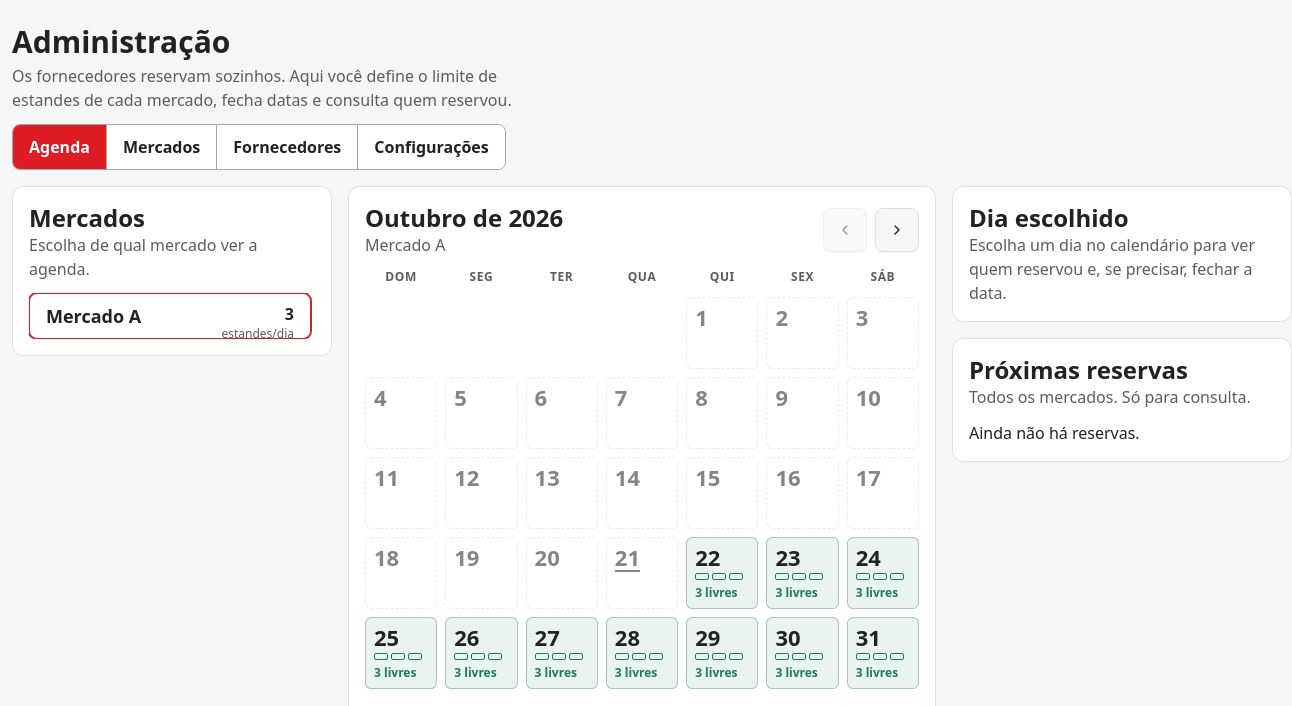
Test: aba Fornecedores › desativar pede confirmação e conta as reservas canceladas; dá para voltar atrás
Click the button "Fornecedores" at (287, 147), box x1=216 y1=125 x2=357 y2=169
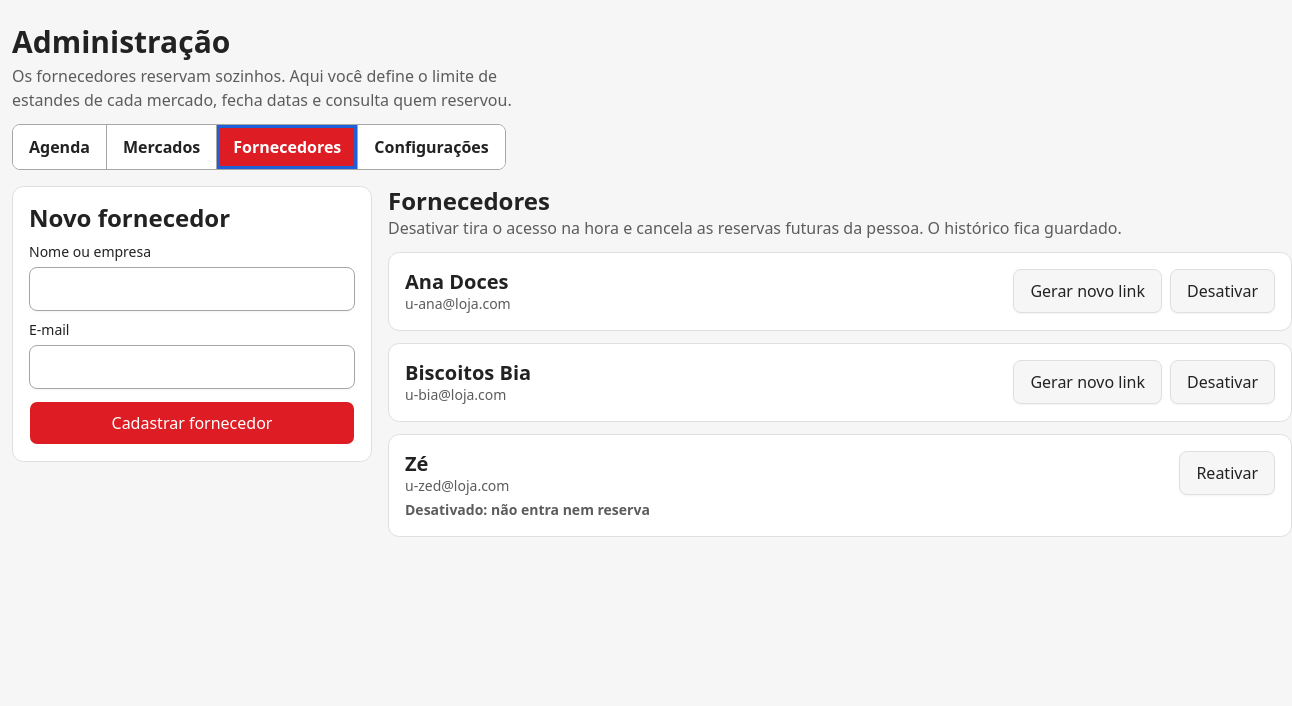
Click the button with aria-label "Desativar Biscoitos Bia" at (1222, 382), box x1=1170 y1=360 x2=1275 y2=404
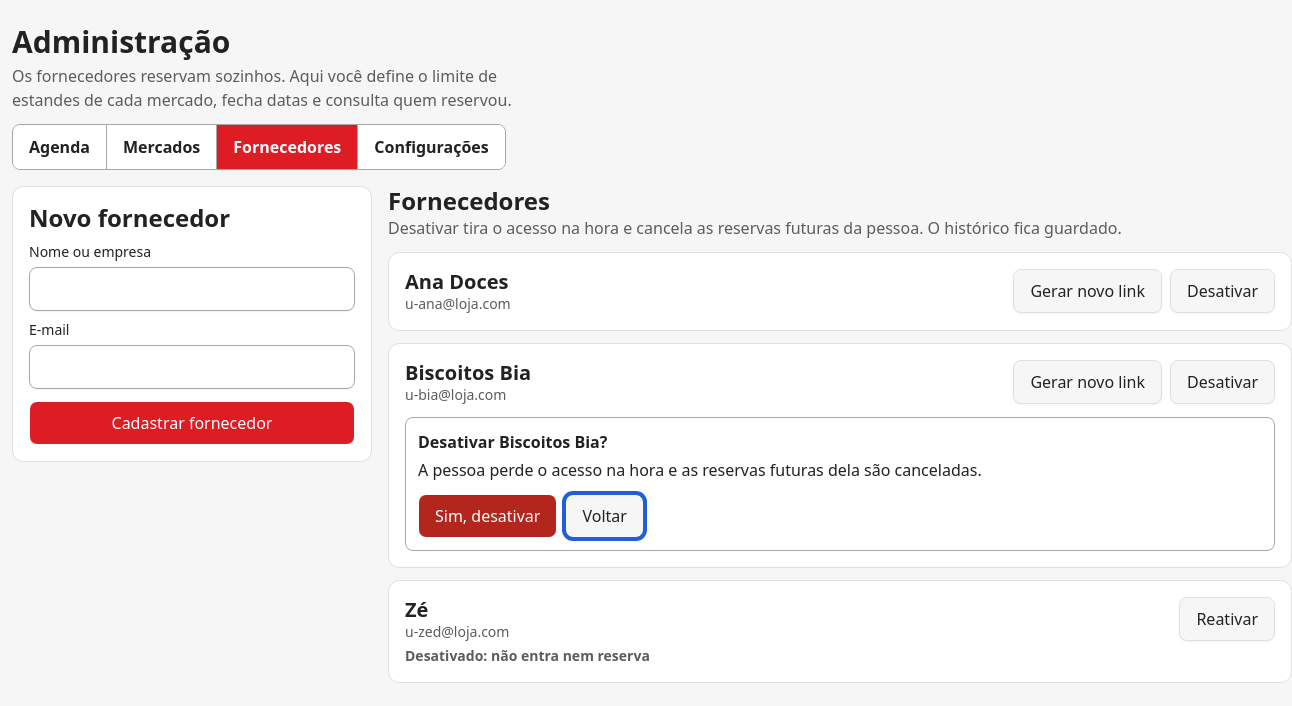
Now the element named "Confirmar a desativação de Biscoitos Bia" shows "reservas futuras dela são canceladas", box x1=418 y1=459 x2=982 y2=481
Click the button "Voltar" at (605, 516), box x1=566 y1=494 x2=644 y2=538
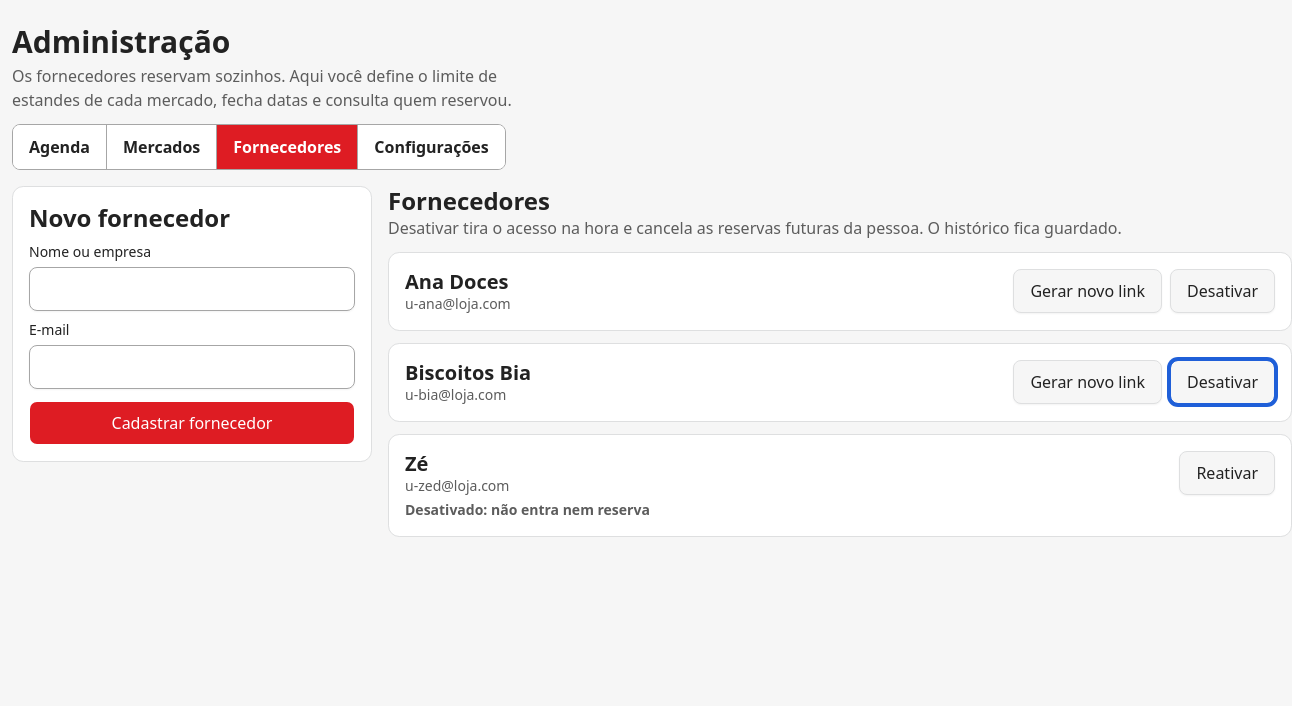
Click the button with aria-label "Desativar Biscoitos Bia" at (1222, 382), box x1=1170 y1=360 x2=1275 y2=404
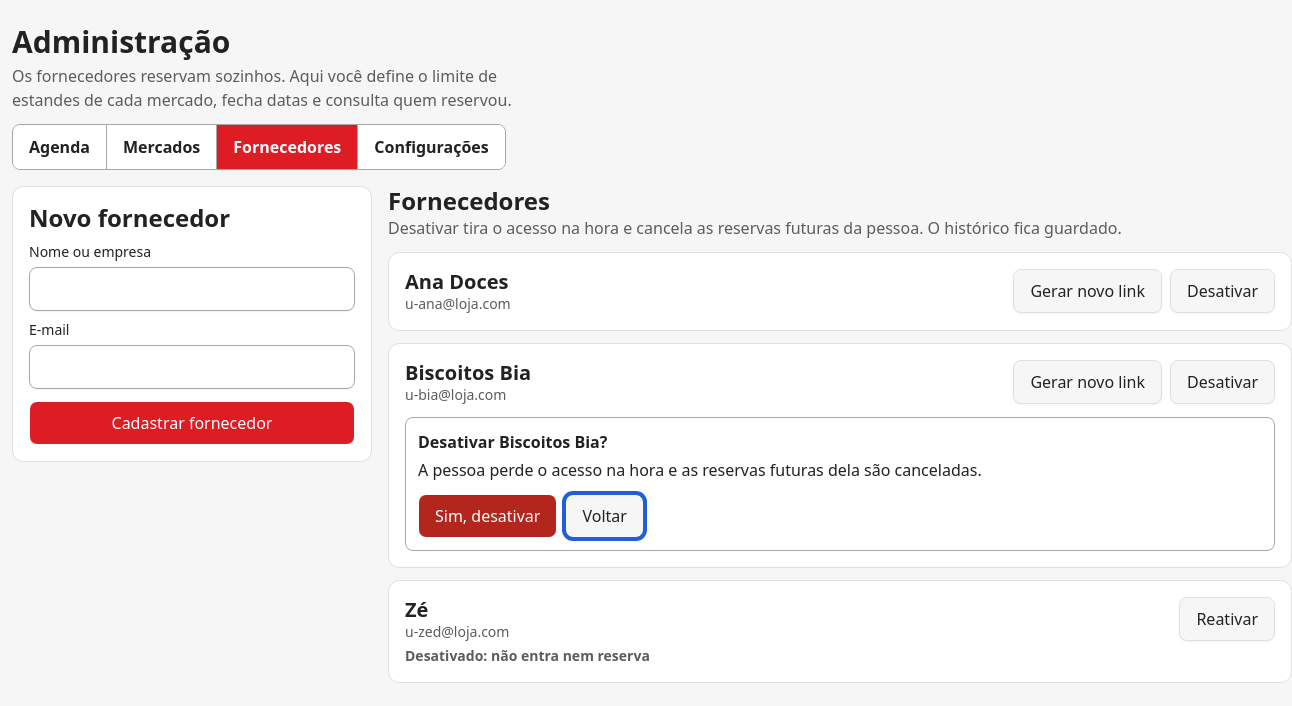
Click the button "Sim, desativar" at (488, 516), box x1=418 y1=494 x2=558 y2=538
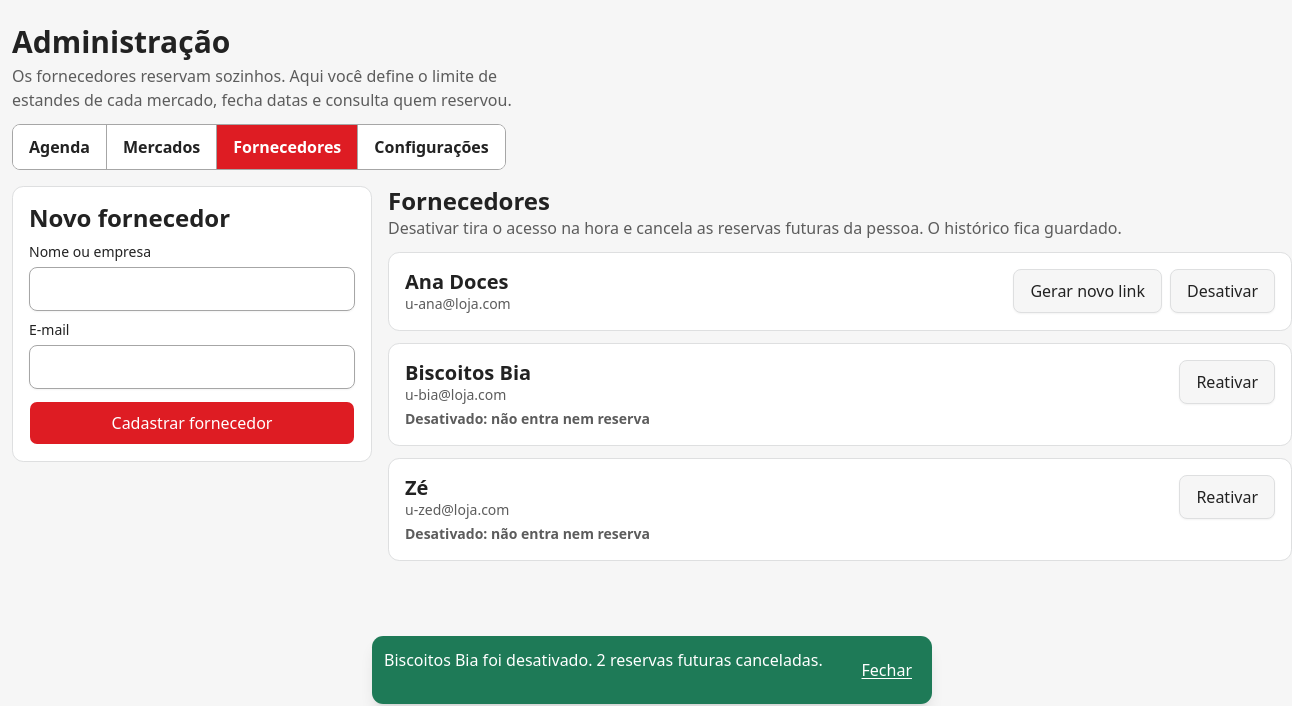
Now the text "Biscoitos Bia foi desativado. 2 reservas futuras canceladas." is shown, box x1=384 y1=648 x2=823 y2=672
Now the text "Desativado: não entra nem reserva" below "u-bia@loja.com" is shown, box x1=405 y1=409 x2=650 y2=428
Now the button with aria-label "Reativar Biscoitos Bia" is shown, box x1=1179 y1=360 x2=1275 y2=404
